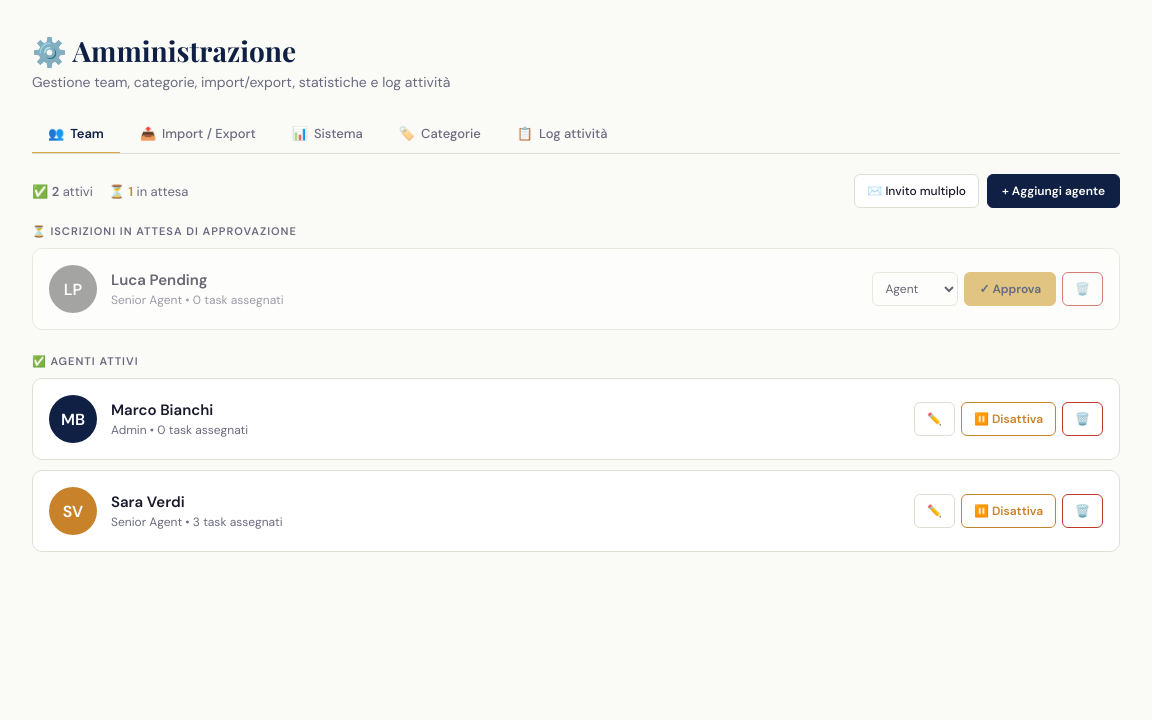
Scenario: AdminView — nessuna tab riceve `state` › Categorie legge categorie e task dal contesto
The image size is (1152, 720).
Click the button "🏷️ Categorie": (440, 134) [383,115,497,154]
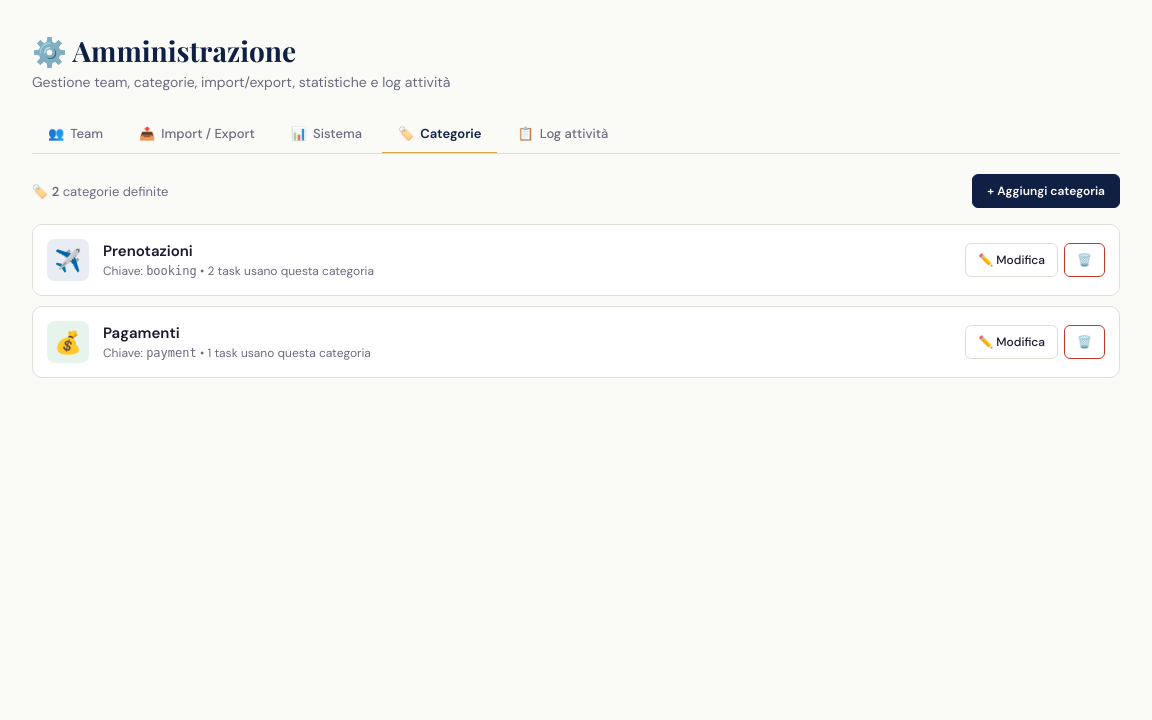
Expected: the text "Prenotazioni" is shown, [103,241,193,261]
Expected: the text "Pagamenti" is shown, [103,323,180,343]
Expected: the text "Chiave: booking • 2 task usano questa categoria" is shown, [103,263,374,279]
